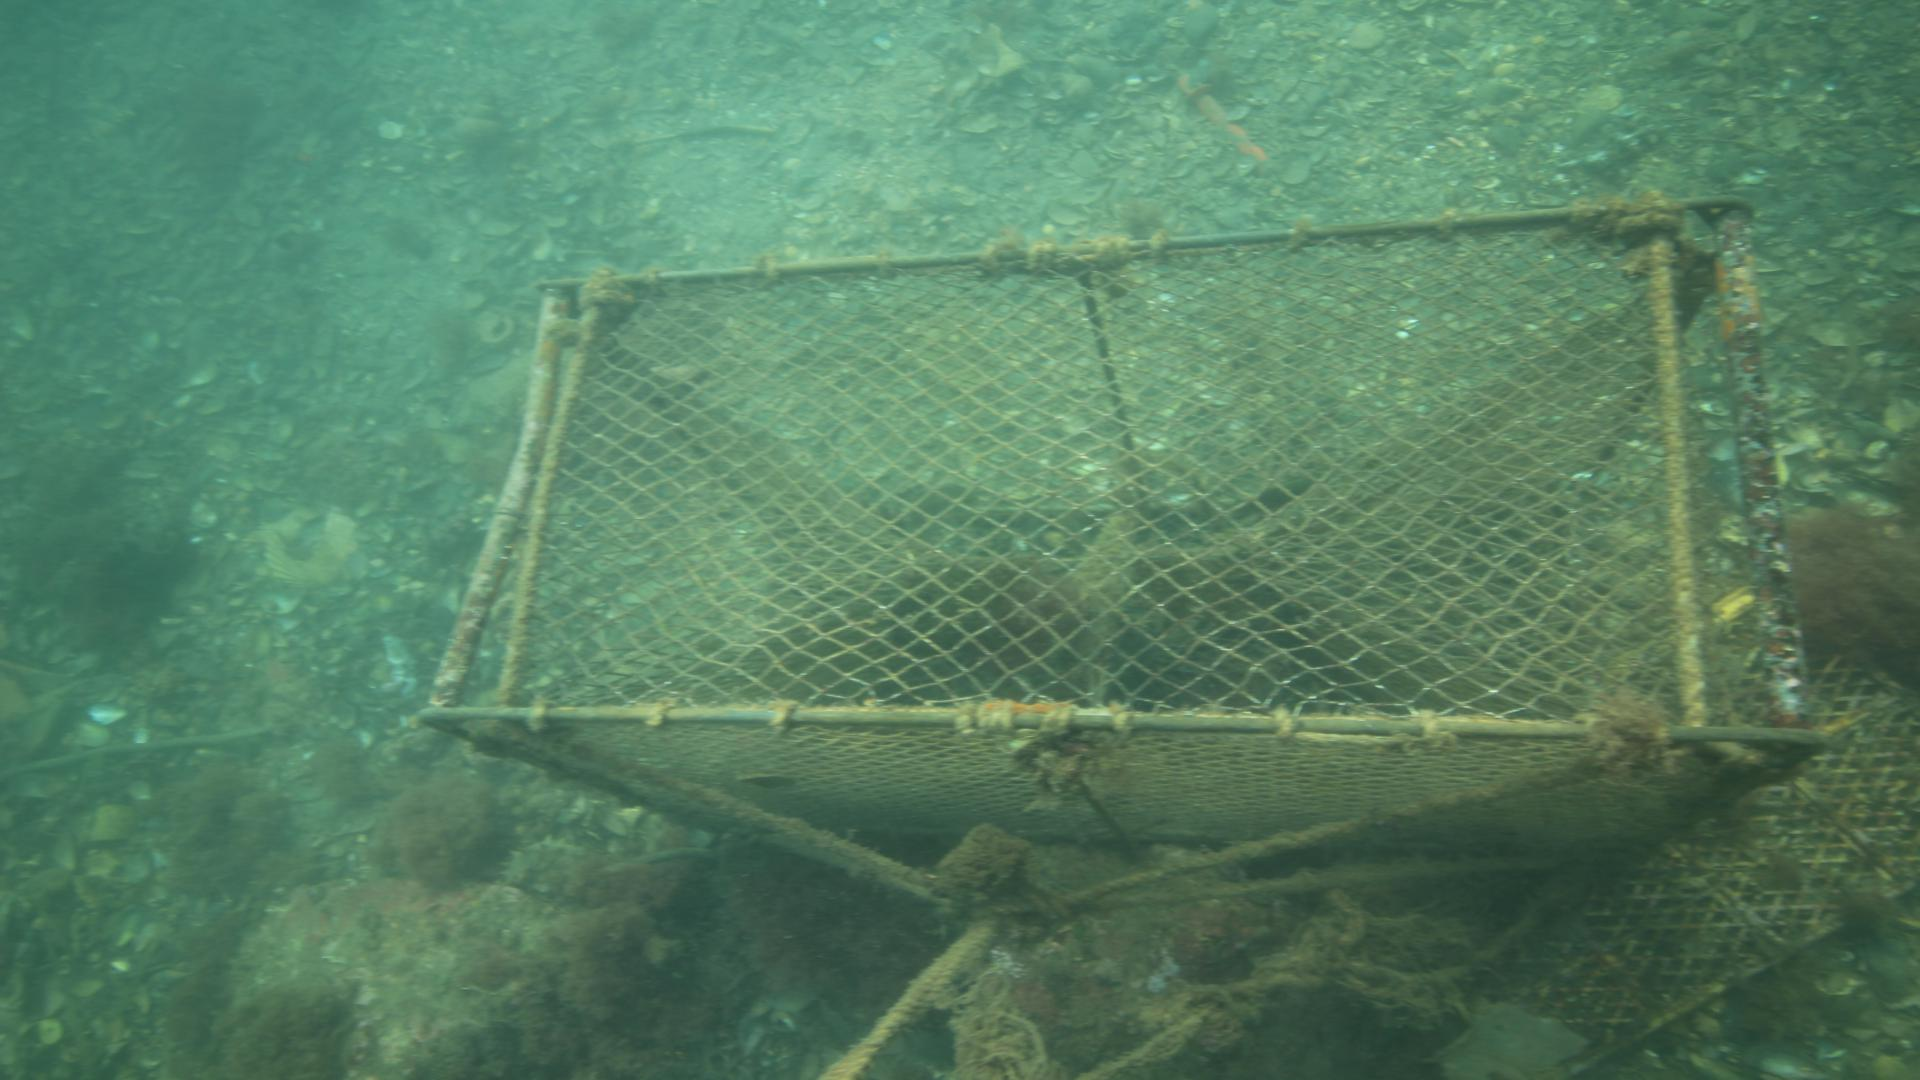bundle of ropes: (789, 862, 1245, 1080)
rectangular fish trap: (419, 190, 1832, 843)
